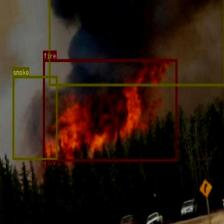fire: (43, 58, 177, 160)
smoke: (48, 0, 224, 85), (12, 75, 57, 160)
